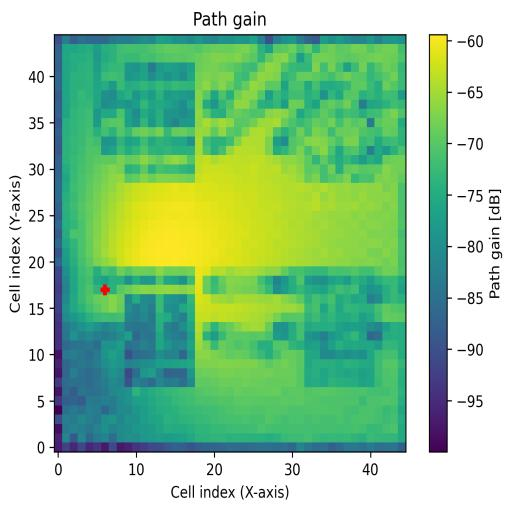Concrete: (304, 62, 383, 183)
Glass: (124, 60, 195, 183)
Metal: (305, 265, 376, 388)
Wood: (124, 265, 196, 387)
